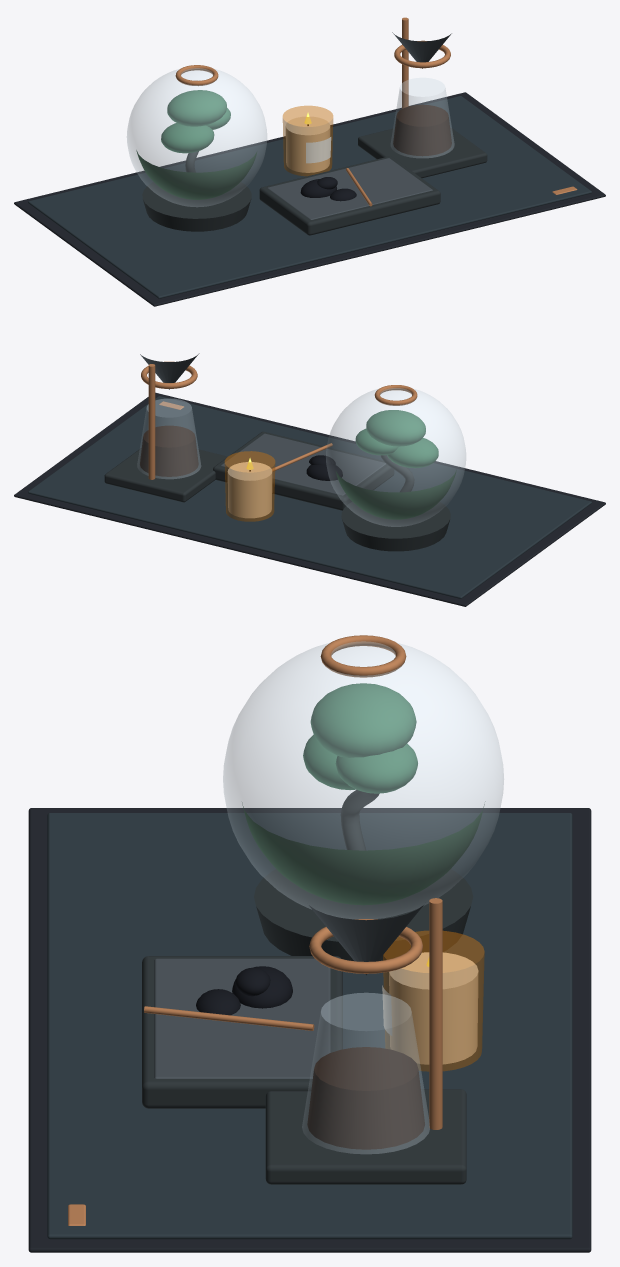
Rendered from atelier-decor-botanical-obsidian.glb.
The picture shows the model from 3 angles, top to bottom: view 1: azimuth 30°, elevation 25°; view 2: azimuth 150°, elevation 25°; view 3: azimuth 270°, elevation 25°; orthographic projection. The views are drawn at different scales.
Size of the model in its own units: 0.78 by 0.234 by 0.4201.
